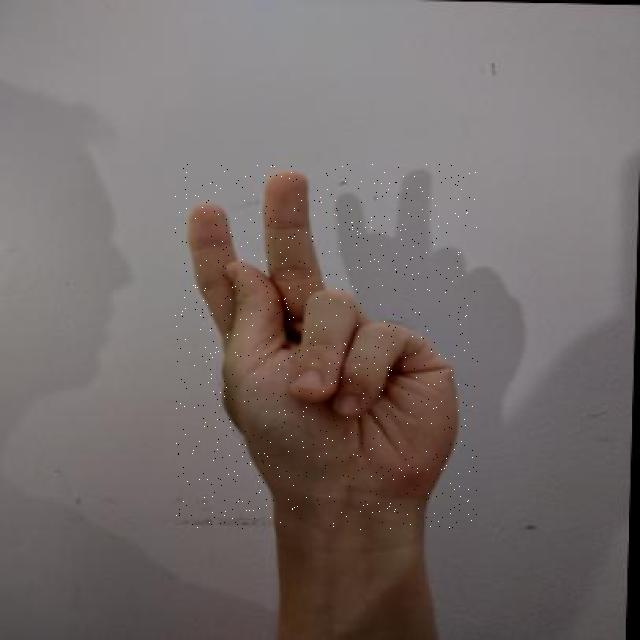K: (175, 164, 478, 531)
